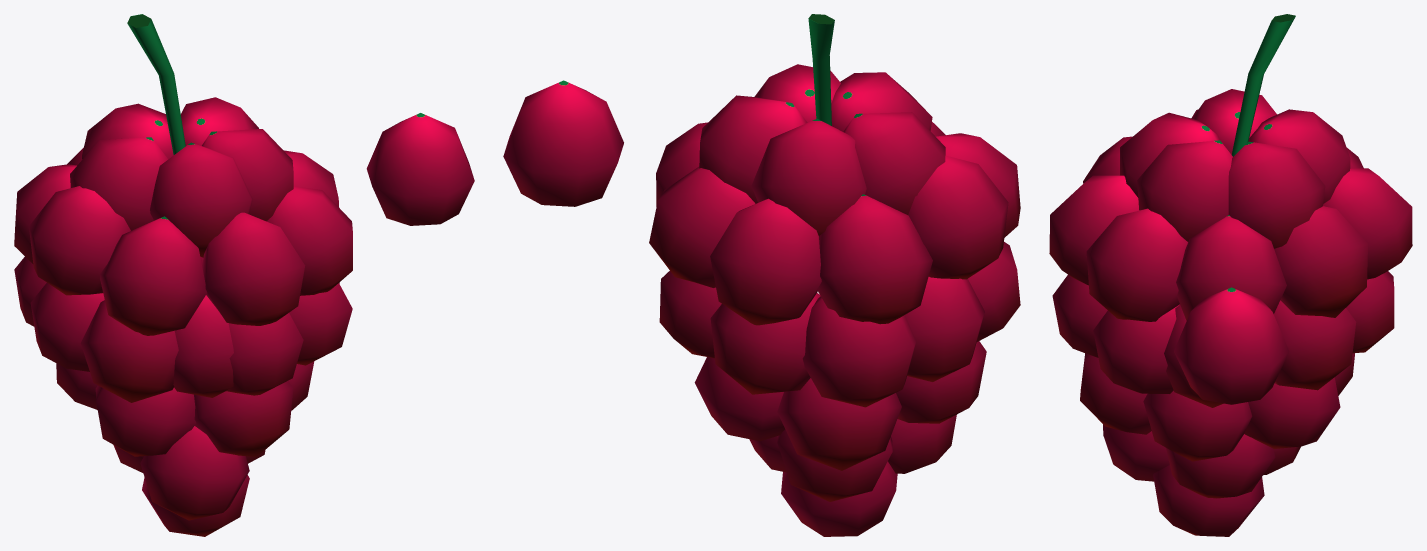
Rendered from grape.fbx.
The picture shows the model from 3 angles, left to right: view 1: azimuth 30°, elevation 25°; view 2: azimuth 150°, elevation 25°; view 3: azimuth 270°, elevation 25°; orthographic projection. The views are drawn at different scales.
Visible parts, largest first — view 1: grapes_mesh, grape_mesh; view 2: grapes_mesh, grape_mesh; view 3: grapes_mesh, grape_mesh.
Boxes of the visible parts, x1,y1,x2,y2 form: grapes_mesh: [14, 14, 352, 536]; grape_mesh: [366, 113, 474, 225]; grapes_mesh: [649, 14, 1020, 536]; grape_mesh: [503, 80, 623, 206]; grapes_mesh: [1049, 14, 1412, 536]; grape_mesh: [1174, 287, 1289, 404].
Size of the model in its own units: 1.7 by 1.82 by 1.18.
